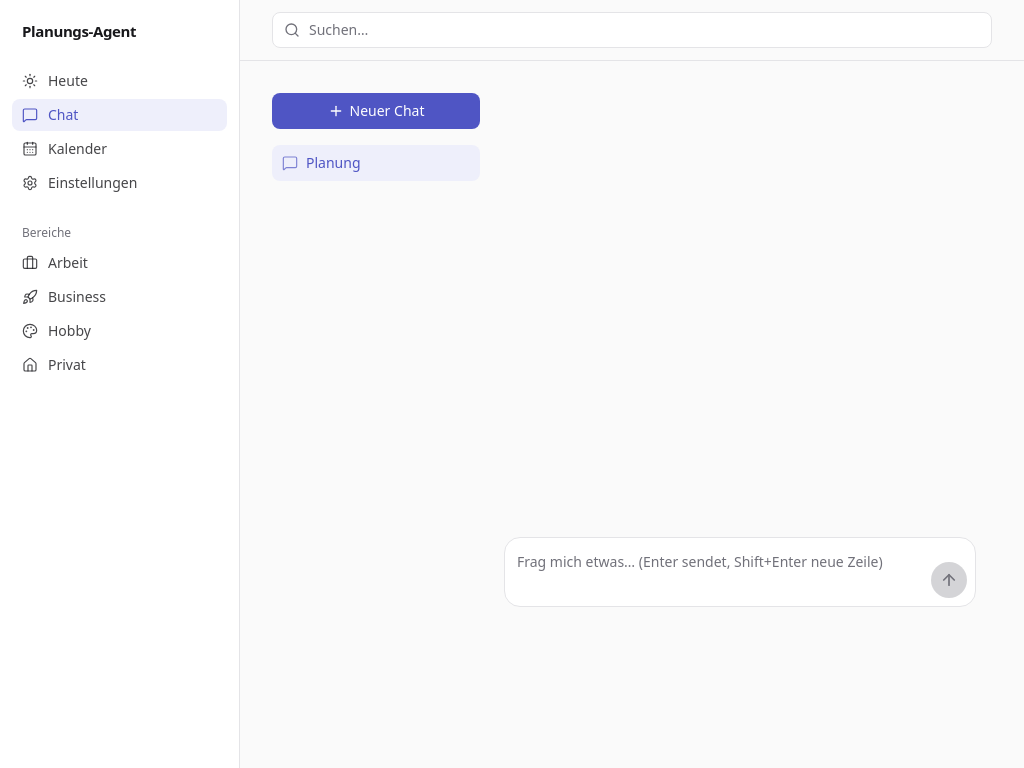
Test: shows error events and 409 readably
Type "Hi" into the text box named "Nachricht" at coordinates (720, 572), box x1=517 y1=546 x2=923 y2=598
Then press Enter
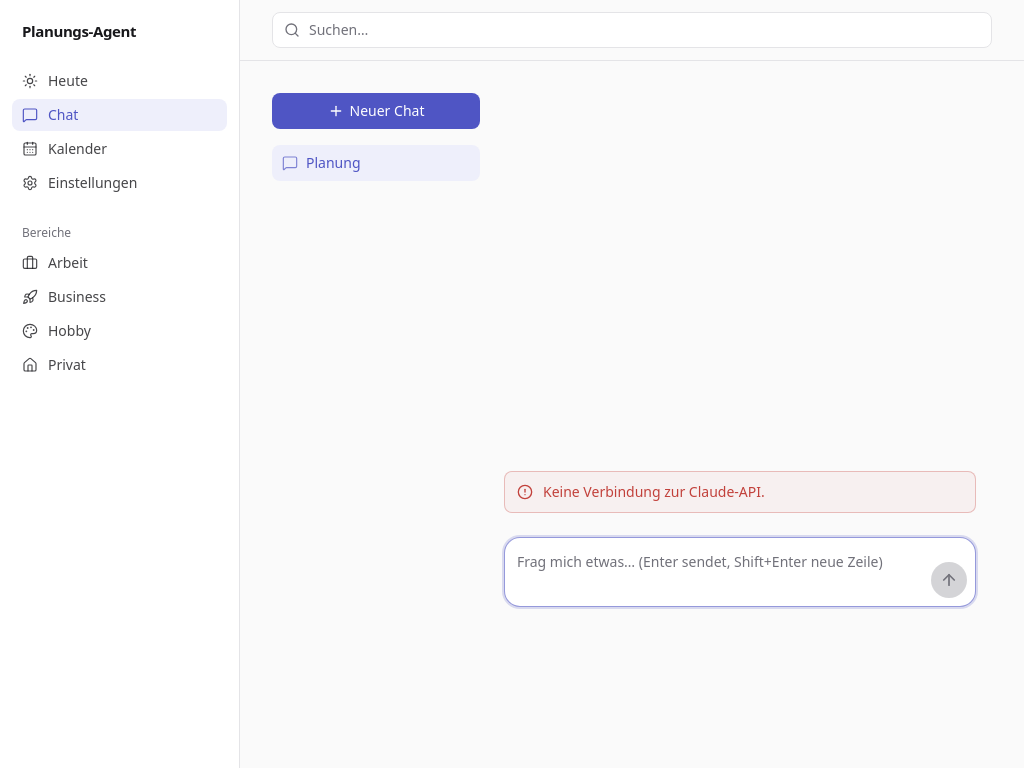
Result: the message reads "Keine Verbindung zur Claude-API." at x1=543 y1=482 x2=765 y2=501
Type "Nochmal" into the text box named "Nachricht" at coordinates (720, 572), box x1=517 y1=546 x2=923 y2=598
Then press Enter
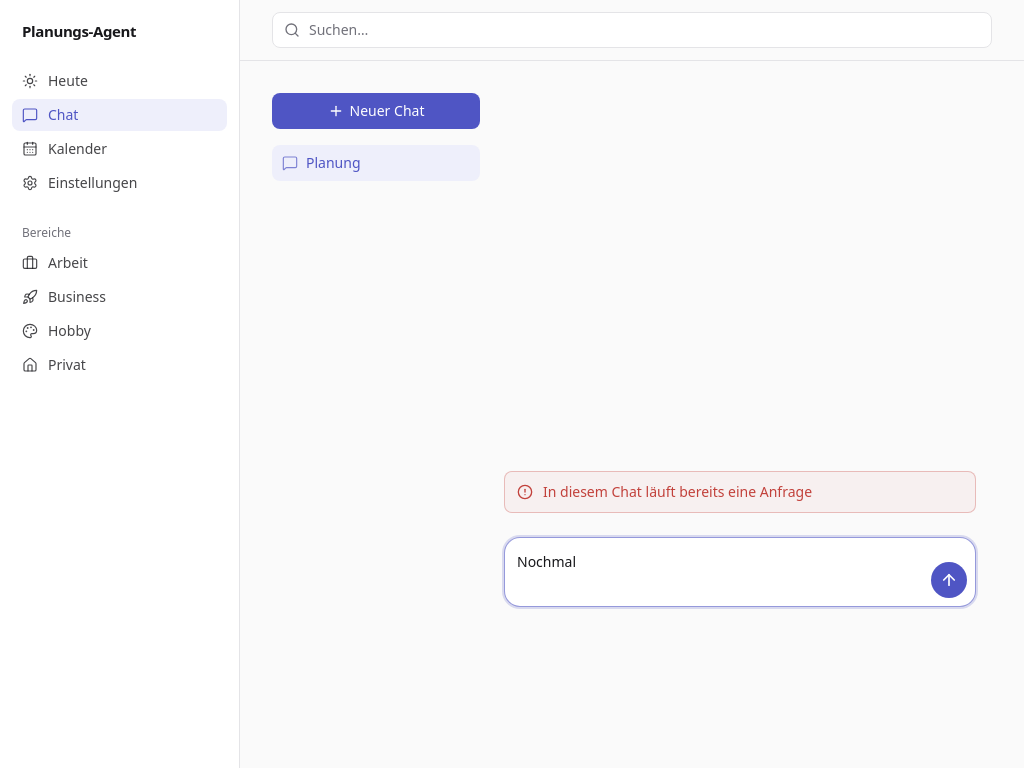
Result: the text "In diesem Chat läuft bereits eine Anfrage" is shown at x1=543 y1=482 x2=812 y2=502
